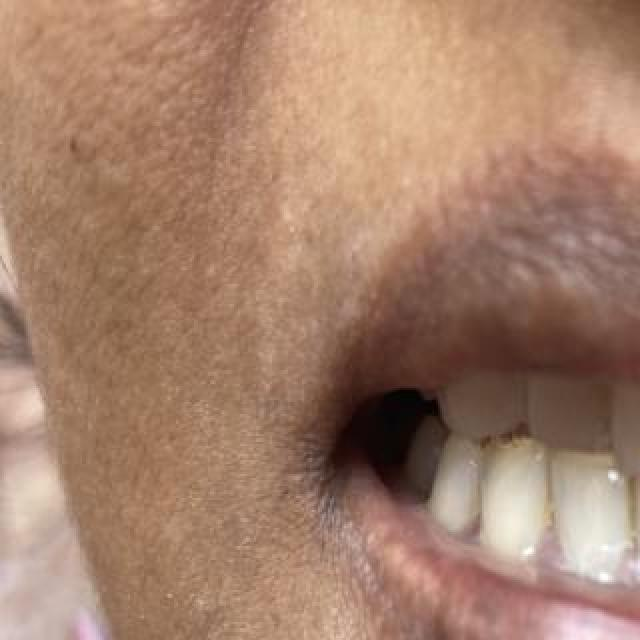maligned: (548, 438, 632, 592), (482, 439, 550, 575), (529, 333, 607, 451), (606, 360, 640, 470), (628, 464, 640, 582)
